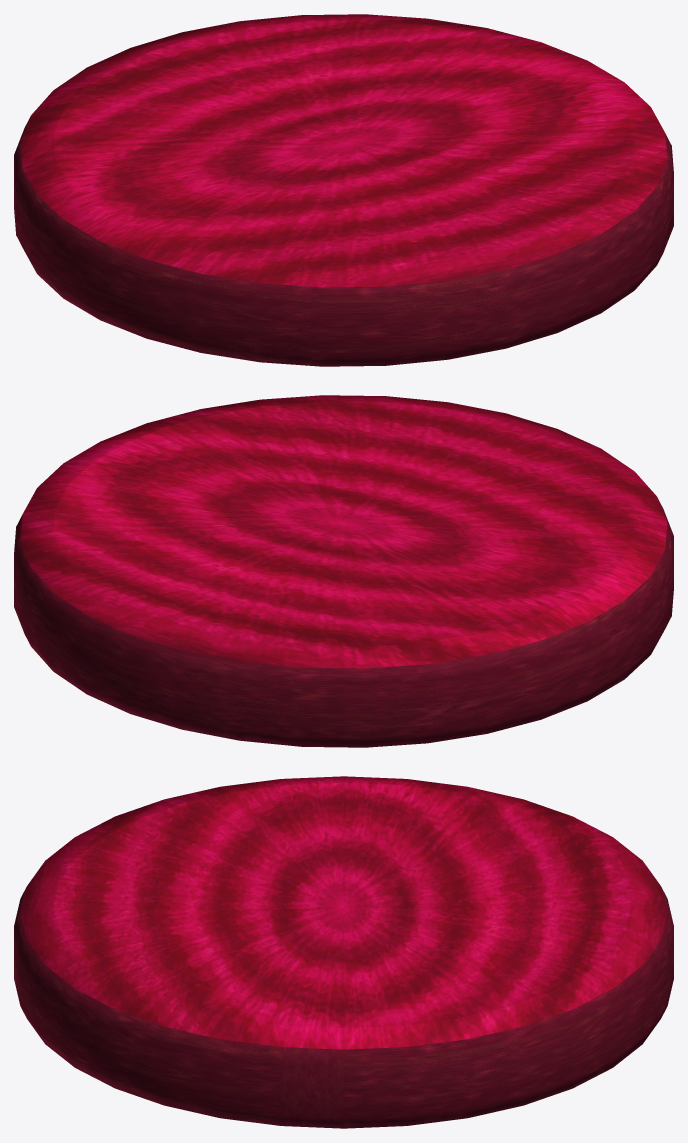
File: beet_slice_large-Bh6te6W-.glb
3 views of the same model, one above another, from view 1: azimuth 30°, elevation 25°; view 2: azimuth 150°, elevation 25°; view 3: azimuth 270°, elevation 25° (orthographic).
Parts seen in each view (by area): view 1: FLC_beet_slice_large; view 2: FLC_beet_slice_large; view 3: FLC_beet_slice_large.
Boxes of the visible parts, x1,y1,x2,y2 form: FLC_beet_slice_large: (14, 14, 673, 366); FLC_beet_slice_large: (14, 395, 673, 747); FLC_beet_slice_large: (14, 776, 673, 1128).
Bounding box in the file's own units: 1.4 × 0.22 × 1.4.
Materials: 1 (1 with a texture image).
